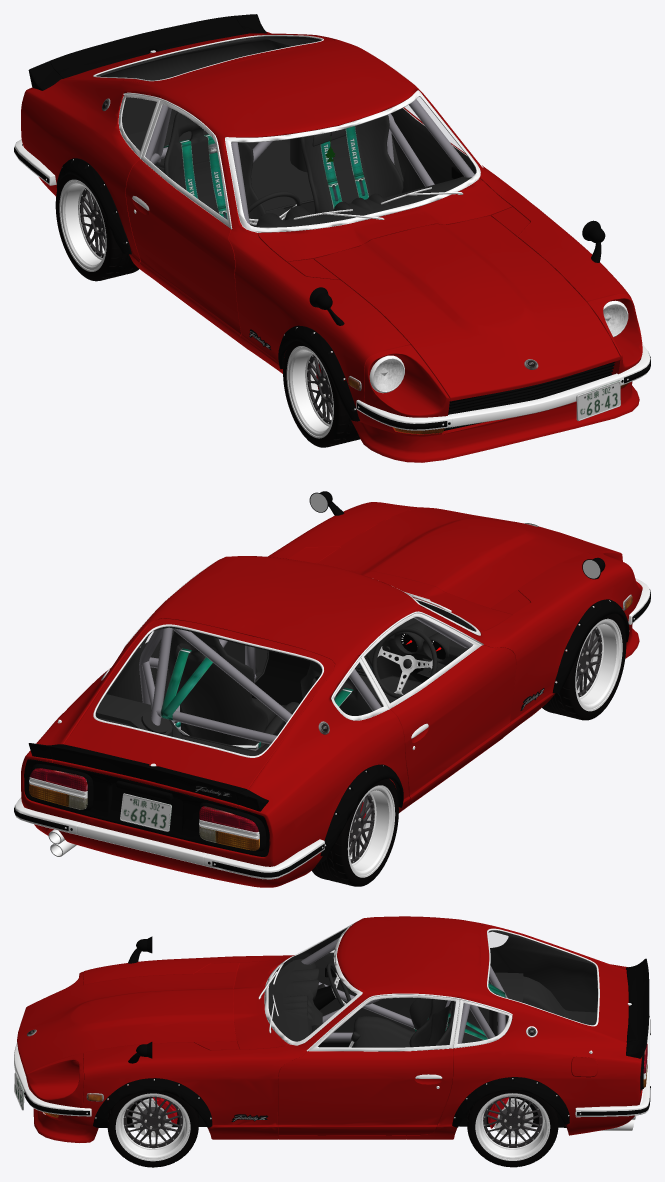
File: nissan_fairlady_z_s30240z_1978.meshopt.glb
3 renders of one model, top to bottom at view 1: azimuth 30°, elevation 25°; view 2: azimuth 150°, elevation 25°; view 3: azimuth 270°, elevation 25°, orthographic. The views are drawn at different scales.
Visible parts, largest first — view 1: Object_16, Object_28, Object_22, Object_19, Object_4, Object_24, Object_7, Object_3, Object_15; view 2: Object_16, Object_22, Object_28, Object_19, Object_4, Object_24, Object_21, Object_7, Object_15; view 3: Object_16, Object_28, Object_22, Object_19, Object_4, Object_24, Object_9.
Boxes of the visible parts, x1,y1,x2,y2 form: Object_16: (21, 31, 642, 462); Object_28: (96, 36, 476, 227); Object_22: (14, 35, 650, 438); Object_19: (14, 14, 650, 430); Object_4: (80, 99, 611, 423); Object_24: (55, 174, 360, 447); Object_7: (163, 126, 368, 219); Object_3: (373, 304, 626, 391); Object_15: (576, 380, 620, 420); Object_16: (21, 502, 642, 887); Object_22: (14, 493, 650, 879); Object_28: (95, 600, 476, 755); Object_19: (14, 491, 650, 877); Object_4: (139, 617, 602, 862); Object_24: (311, 613, 626, 886); Object_21: (29, 594, 632, 850); Object_7: (160, 648, 353, 750); Object_15: (120, 793, 171, 831); Object_16: (17, 916, 642, 1142); Object_28: (268, 928, 597, 1051); Object_22: (14, 921, 650, 1161); Object_19: (24, 936, 650, 1127); Object_4: (124, 938, 541, 1147); Object_24: (107, 1090, 558, 1167); Object_9: (99, 1097, 567, 1128).
Size of the model in its own units: 1.19 by 0.7941 by 2.8.
Materials: 19 (18 with a texture image).
